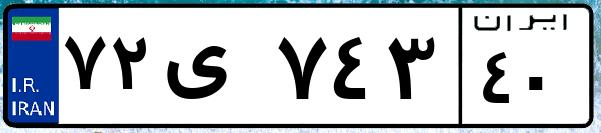0: (525, 38, 570, 115)
2: (110, 28, 158, 98)
3: (385, 28, 445, 110)
4: (330, 28, 385, 110), (475, 38, 525, 113)
7: (270, 28, 330, 110), (57, 26, 110, 100)
ی: (158, 20, 270, 120)
